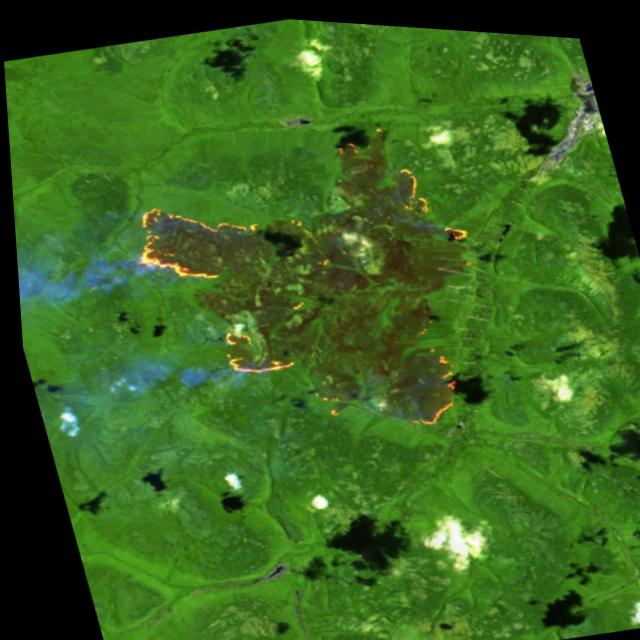fire: (96, 92, 521, 478)
